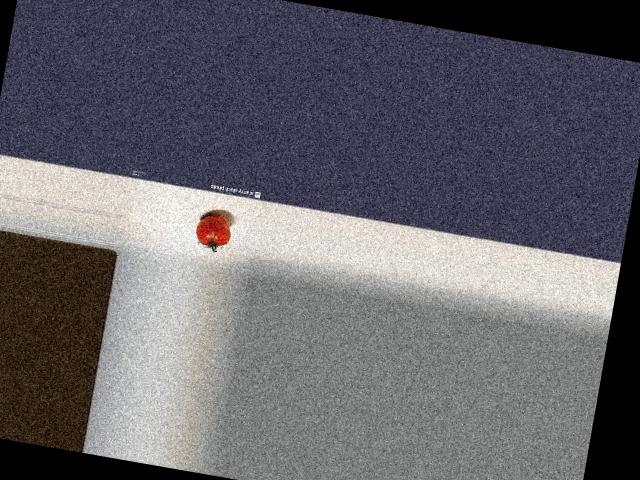tomato: (193, 212, 232, 248)
